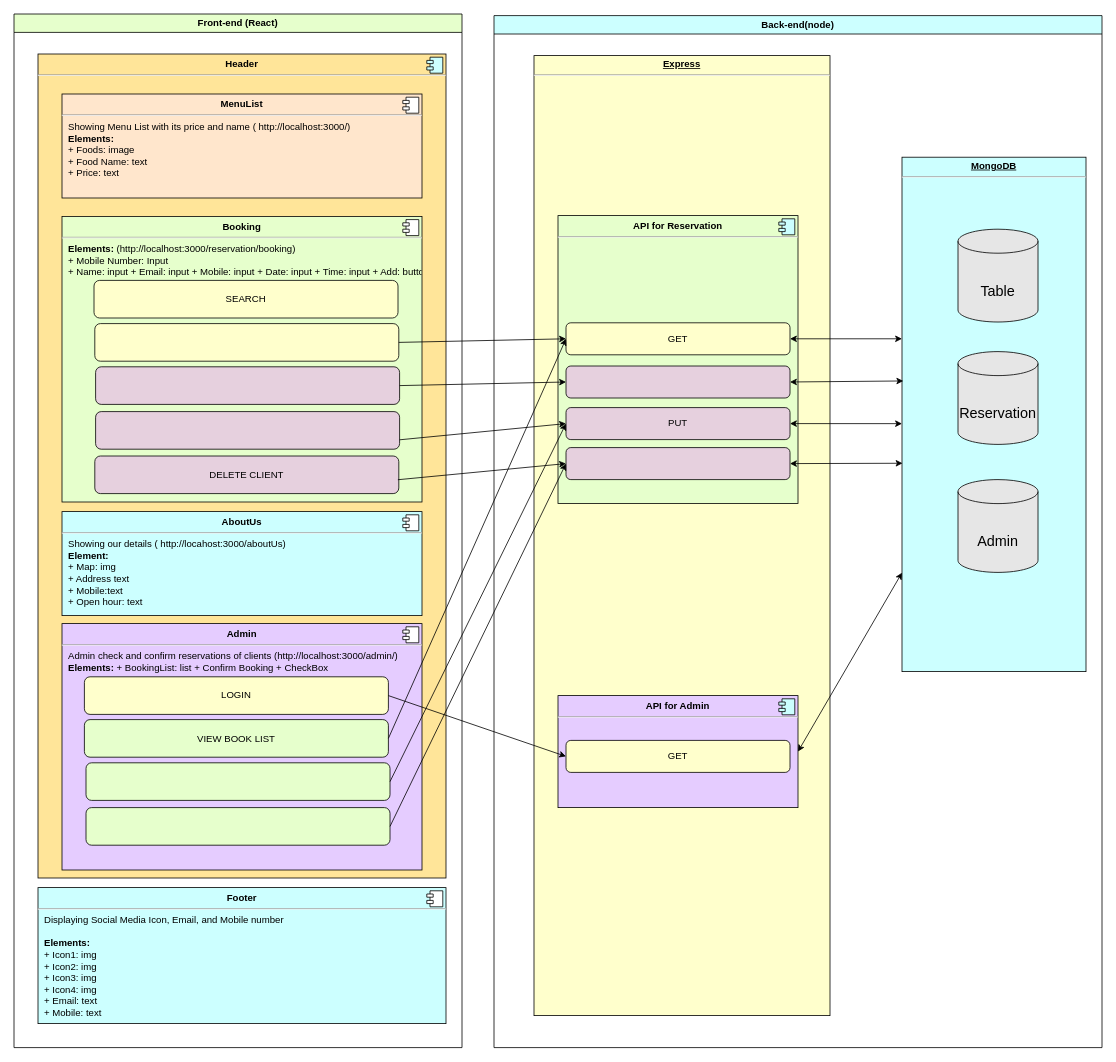
Some shapes in this 1116 by 1062 pixel diagram are drawn without their labels. The centre of each missing label's shape, as x and y in pixels:
ADD CLIENT: (x=247, y=385)
DELETE: (x=677, y=463)
DELETE BOOK LIST: (x=237, y=826)
POST: (x=677, y=381)
UPDATE BOOK LIST: (x=237, y=781)
UPDATE CLIENT: (x=247, y=430)
VIEW CLIENT: (x=246, y=342)
